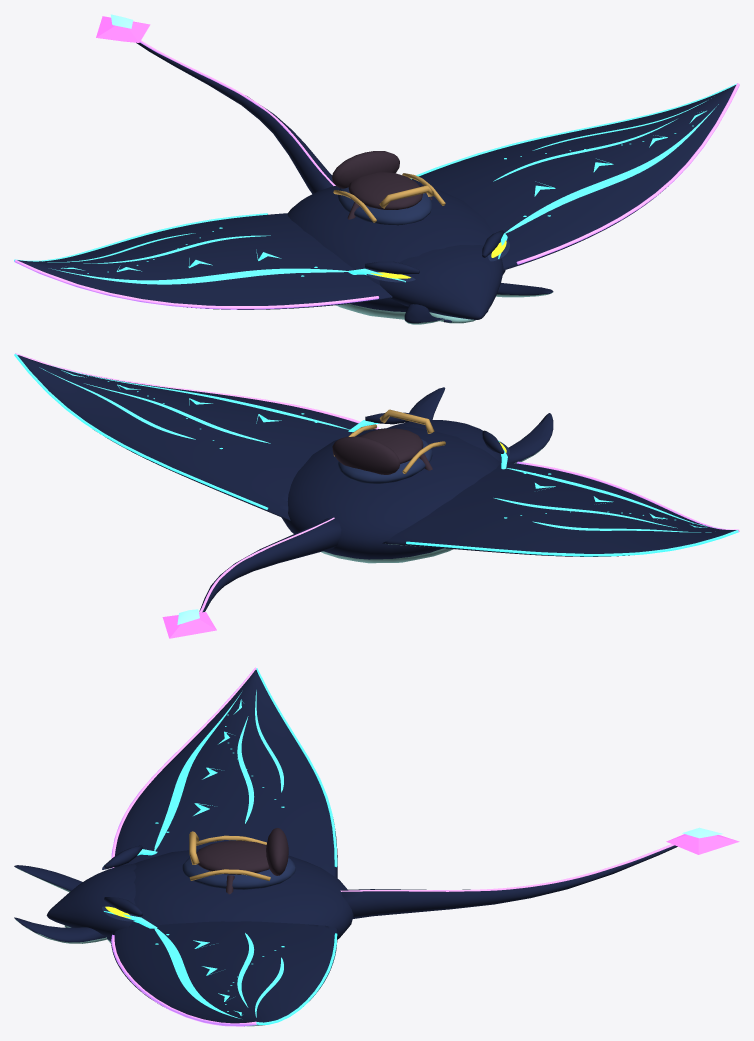
File: 04-rift-manta.glb
3 renders of one model, top to bottom at view 1: azimuth 30°, elevation 25°; view 2: azimuth 150°, elevation 25°; view 3: azimuth 270°, elevation 25°, orthographic.
Visible parts, largest first — view 1: Body, WingRight, WingLeft, WingRightGlow, WingLeftGlow, BodyGlow; view 2: Body, WingRight, WingLeft, WingRightGlow, WingLeftGlow, BodyGlow; view 3: Body, WingLeft, WingRight, WingLeftGlow, WingRightGlow, BodyGlow.
Part boxes in pixels (x1,y1,x2,y2): Body: (136,42,553,324); WingRight: (412,85,735,270); WingLeft: (17,213,392,309); WingRightGlow: (410,83,739,264); WingLeftGlow: (14,213,378,309); BodyGlow: (96,14,507,282); Body: (199,387,553,612); WingRight: (17,355,375,520); WingLeft: (382,462,736,556); WingRightGlow: (14,353,378,509); WingLeftGlow: (406,461,739,556); BodyGlow: (162,420,507,638); Body: (14,828,677,943); WingLeft: (115,670,337,878); WingRight: (111,921,337,1026); WingLeftGlow: (111,667,337,868); WingRightGlow: (111,927,337,1026); BodyGlow: (104,827,739,928).
Bounding box in the file's own units: 10.35 × 1.62 × 8.93.
Materials: 2 (2 with a texture image).
